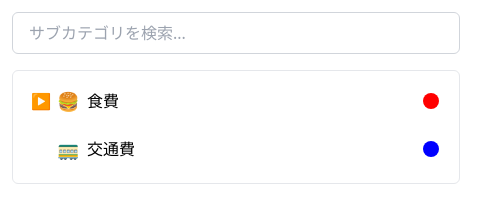
Test case: SubcategorySelector › 検索機能 › 検索結果が空の場合、メッセージが表示される
Type "存在しない" into the field with placeholder "サブカテゴリを検索...". click: coordinates (236, 33)
box: [12,12,460,54]
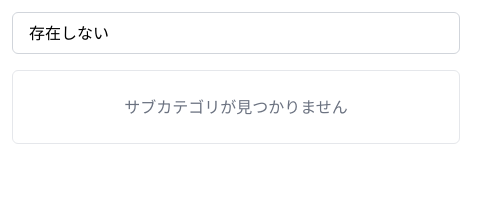
Expected: the text "サブカテゴリが見つかりません" is shown, [124,96,348,118]
